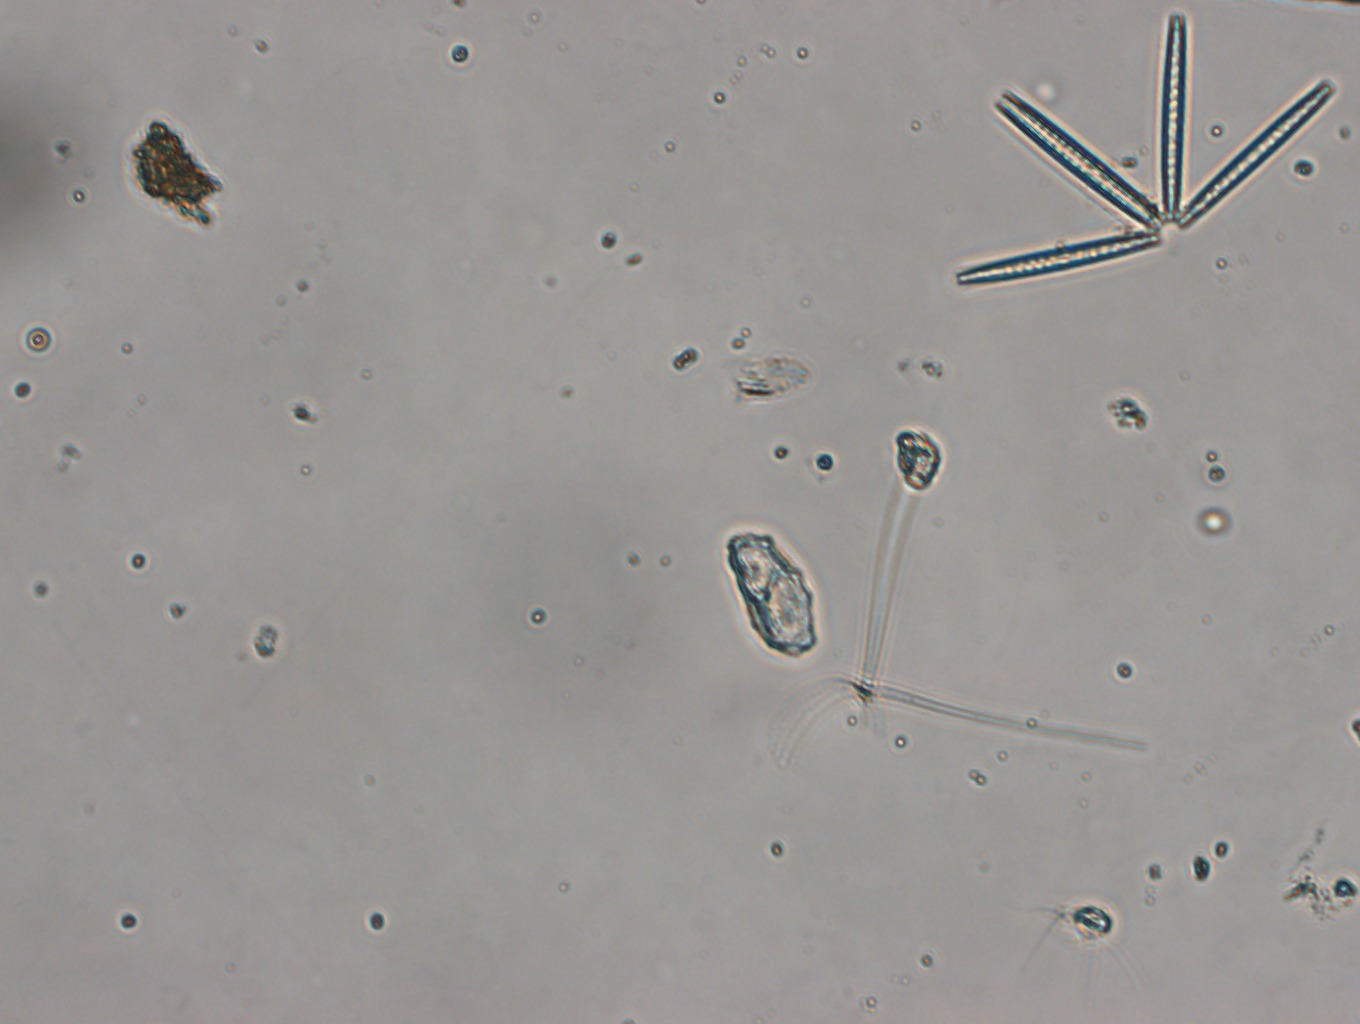thalassionema nitzschioides: (957, 8, 1336, 286)
